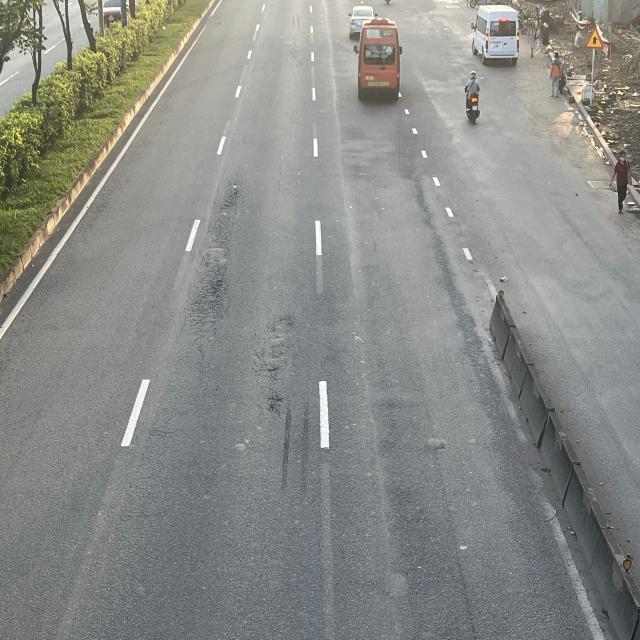van: (353, 20, 401, 102), (472, 3, 520, 63)
